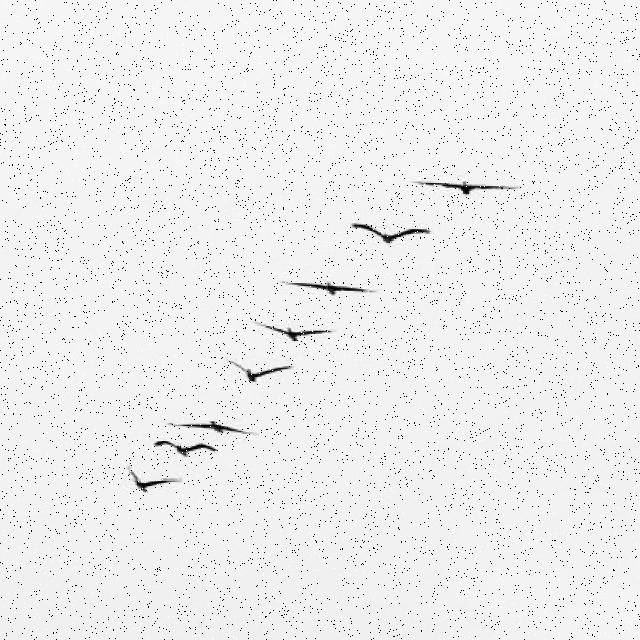bird: (411, 178, 520, 196), (168, 418, 255, 440), (350, 222, 433, 244), (252, 320, 334, 342), (280, 280, 380, 297), (226, 358, 291, 384), (124, 467, 180, 495), (154, 438, 218, 458)
